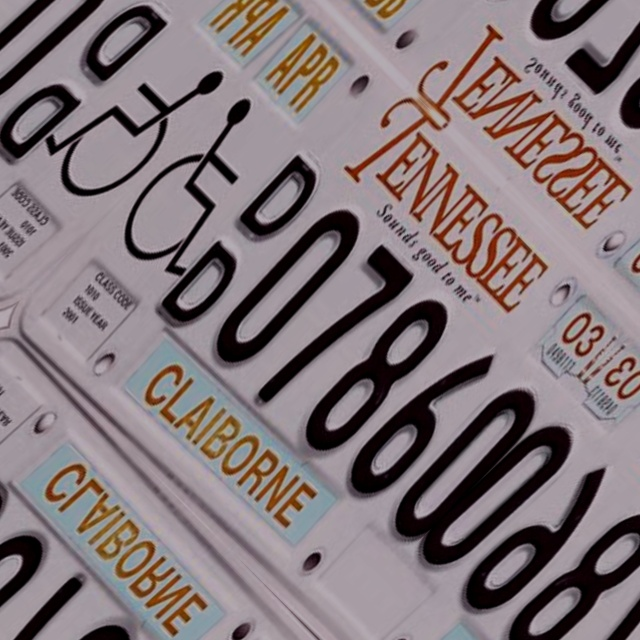ISA: (28, 15, 236, 222), (98, 85, 305, 292)
